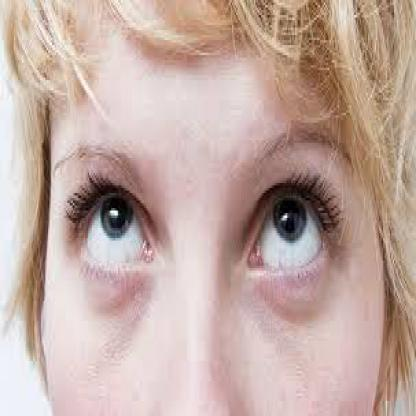darkspot: (121, 136, 250, 414), (124, 64, 157, 116), (97, 161, 136, 182), (283, 146, 302, 175), (192, 123, 207, 145), (58, 134, 68, 159), (283, 232, 293, 252)
